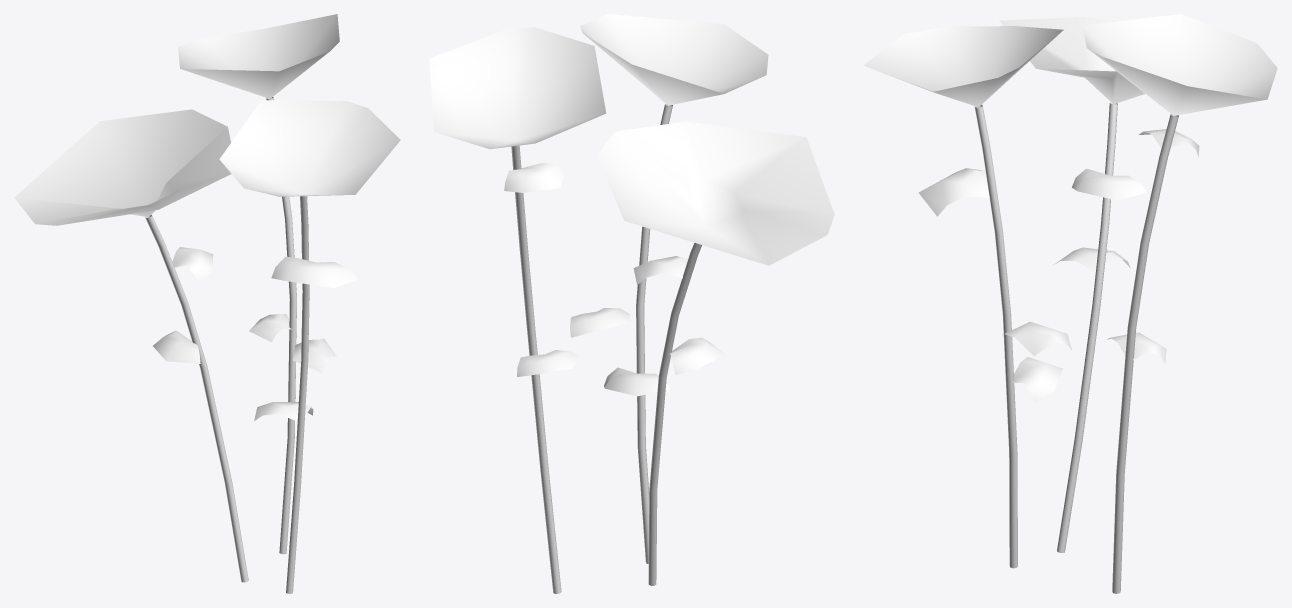
File: plant_1.glb
The picture shows the model from 3 angles, left to right: view 1: azimuth 30°, elevation 25°; view 2: azimuth 150°, elevation 25°; view 3: azimuth 270°, elevation 25°; orthographic projection. The views are drawn at different scales.
Parts seen in each view (by area): view 1: Clover_1; view 2: Clover_1; view 3: Clover_1.
Boxes of the visible parts, left/top/right/bottom form: Clover_1: left=14, top=14, right=400, bottom=593; Clover_1: left=429, top=14, right=834, bottom=593; Clover_1: left=863, top=14, right=1277, bottom=593.
Size of the model in its own units: 0.7963 by 1.14 by 0.7639.
Materials: 1 (1 with a texture image).
